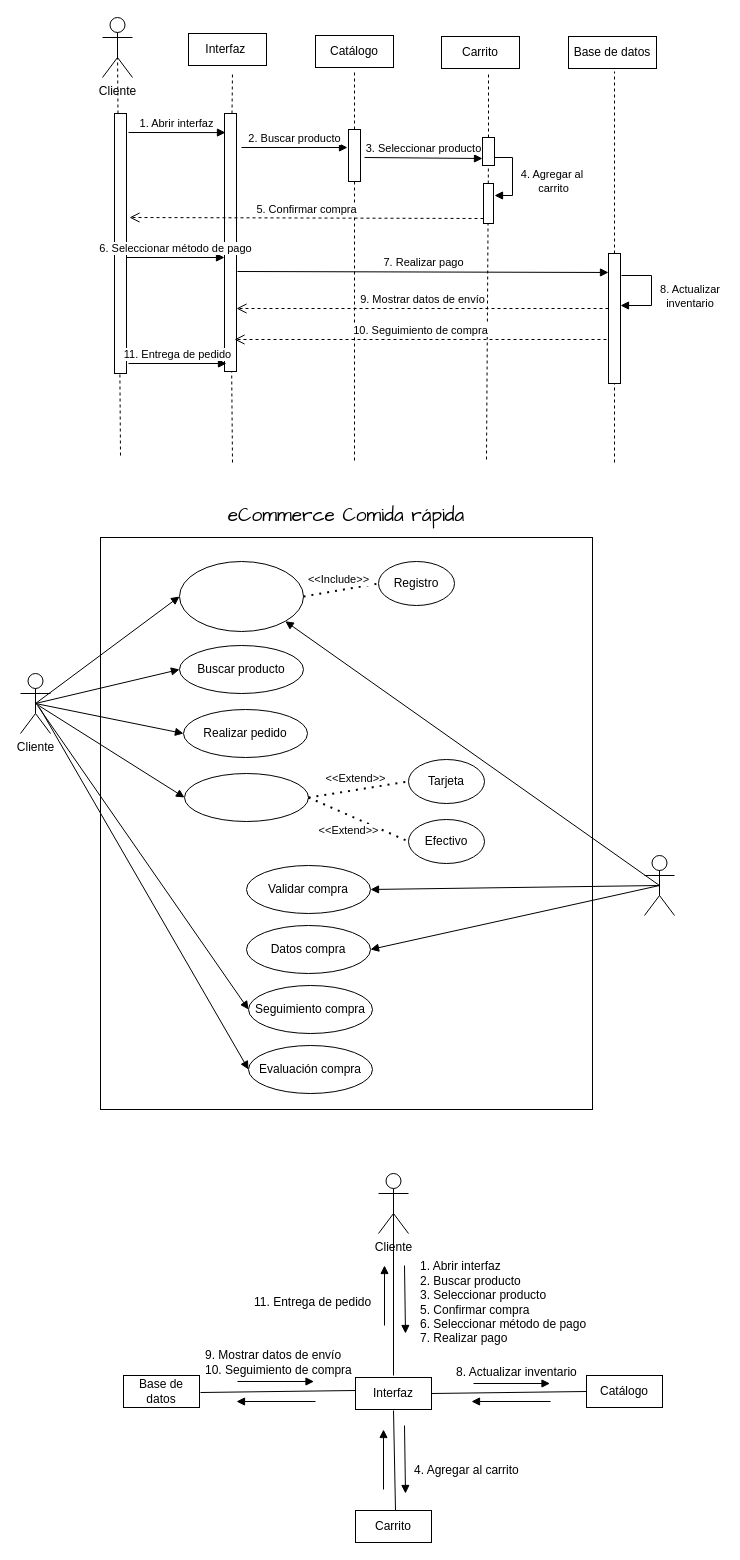
Image size: 740x1560. Some labels were removed from this diagram. Each missing label, with the box of its shape:
Actualizar ubicación: (178, 560, 304, 632)
Realizar pago: (184, 772, 308, 822)
Sistema: (644, 854, 674, 916)
